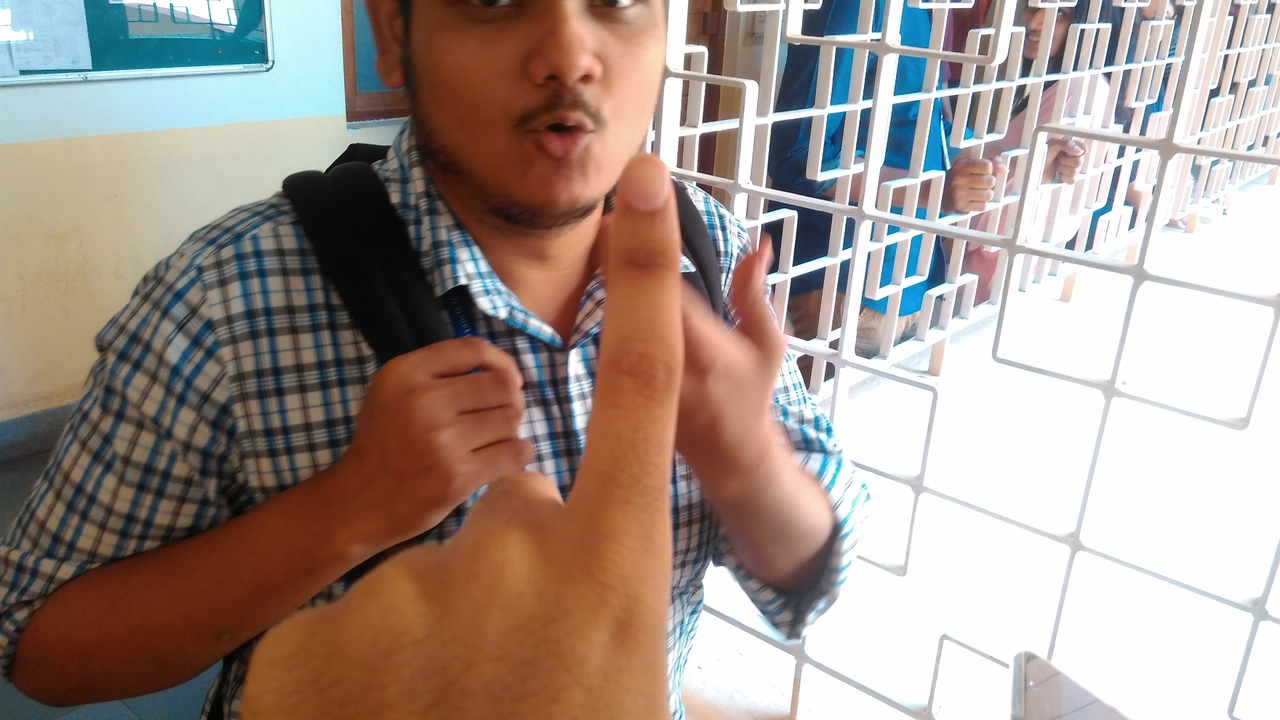fingertip: (612, 150, 672, 222)
